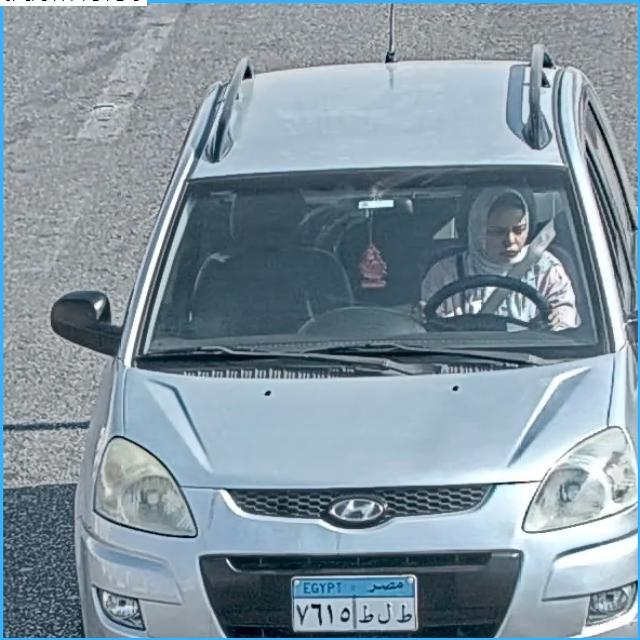windshield: (126, 182, 594, 346)
